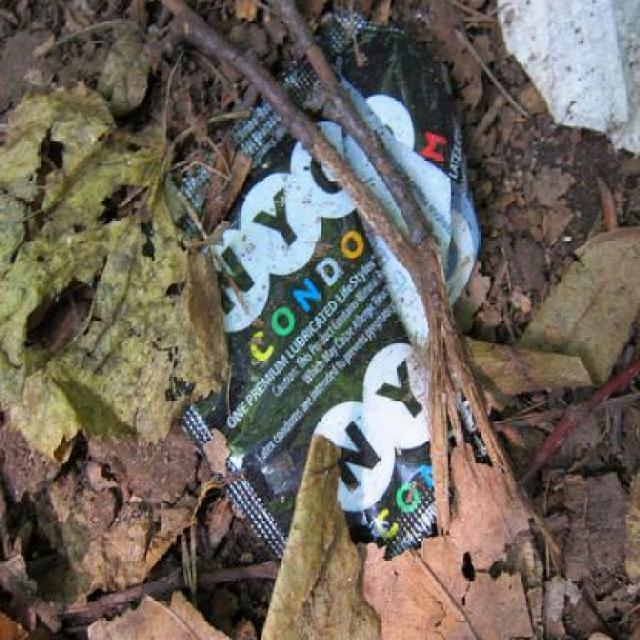garbage: (0, 3, 617, 624)
